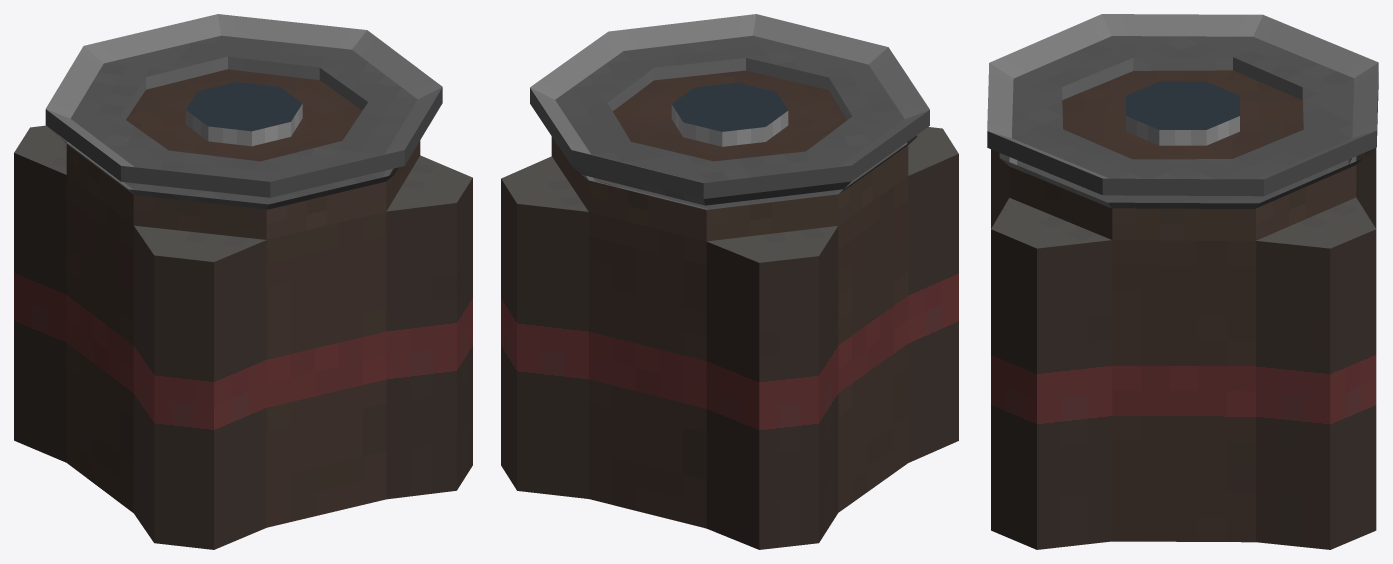
File: containerclosed.obj
3 renders of one model, left to right at view 1: azimuth 30°, elevation 25°; view 2: azimuth 150°, elevation 25°; view 3: azimuth 270°, elevation 25°, orthographic. The views are drawn at different scales.
Visible parts, largest first — view 1: container, lid; view 2: container, lid; view 3: container, lid.
Boxes of the visible parts, x1,y1,x2,y2 form: container: (14,125,472,549); lid: (45,14,442,209); container: (501,127,958,549); lid: (530,14,929,208); container: (991,148,1376,549); lid: (987,14,1378,208).
Size of the model in its own units: 0.9512 by 0.997 by 0.9512.
